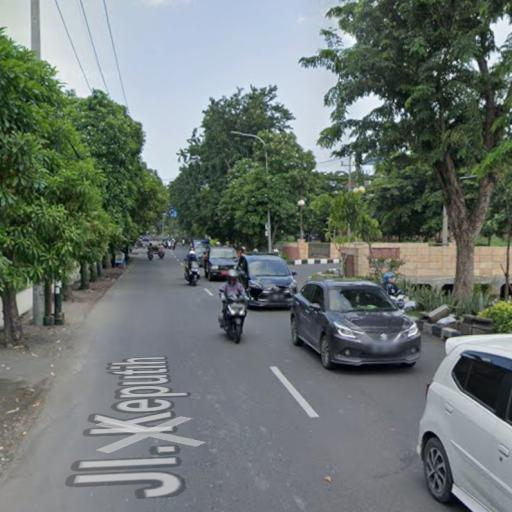Helmet: (383, 272, 395, 283), (228, 269, 238, 279), (189, 248, 196, 254), (273, 249, 278, 254), (253, 249, 258, 253), (242, 246, 245, 251)
Motor: (219, 297, 246, 343), (390, 294, 416, 312), (185, 261, 200, 286), (158, 247, 165, 258), (170, 240, 176, 250), (148, 248, 153, 260), (183, 240, 185, 246)
